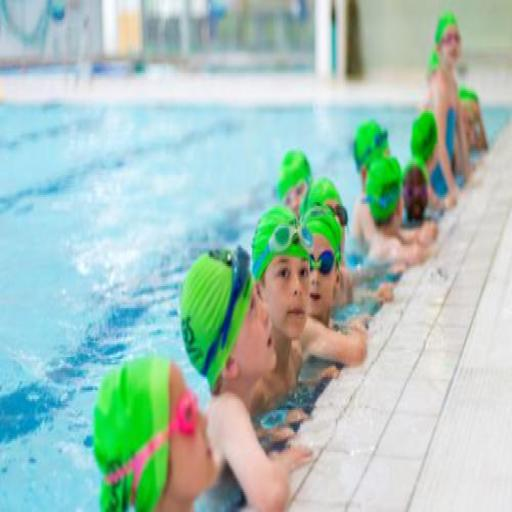swimming: (89, 11, 491, 510), (90, 352, 313, 510)
